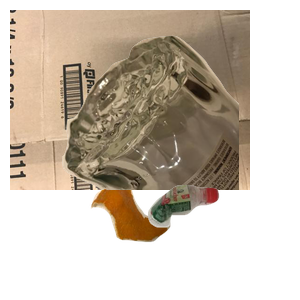cardboard: (10, 10, 250, 190)
glass: (60, 33, 300, 213)
plastic: (146, 182, 300, 300)
trash: (88, 177, 251, 300)
